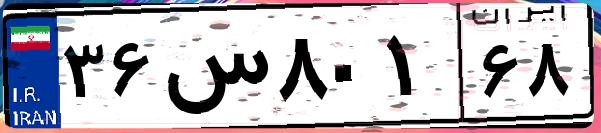0: (330, 28, 385, 110)
1: (385, 28, 445, 110)
3: (57, 26, 110, 100)
6: (475, 38, 525, 113), (110, 28, 158, 98)
8: (270, 28, 330, 110), (525, 38, 570, 115)
س: (158, 20, 270, 120)
